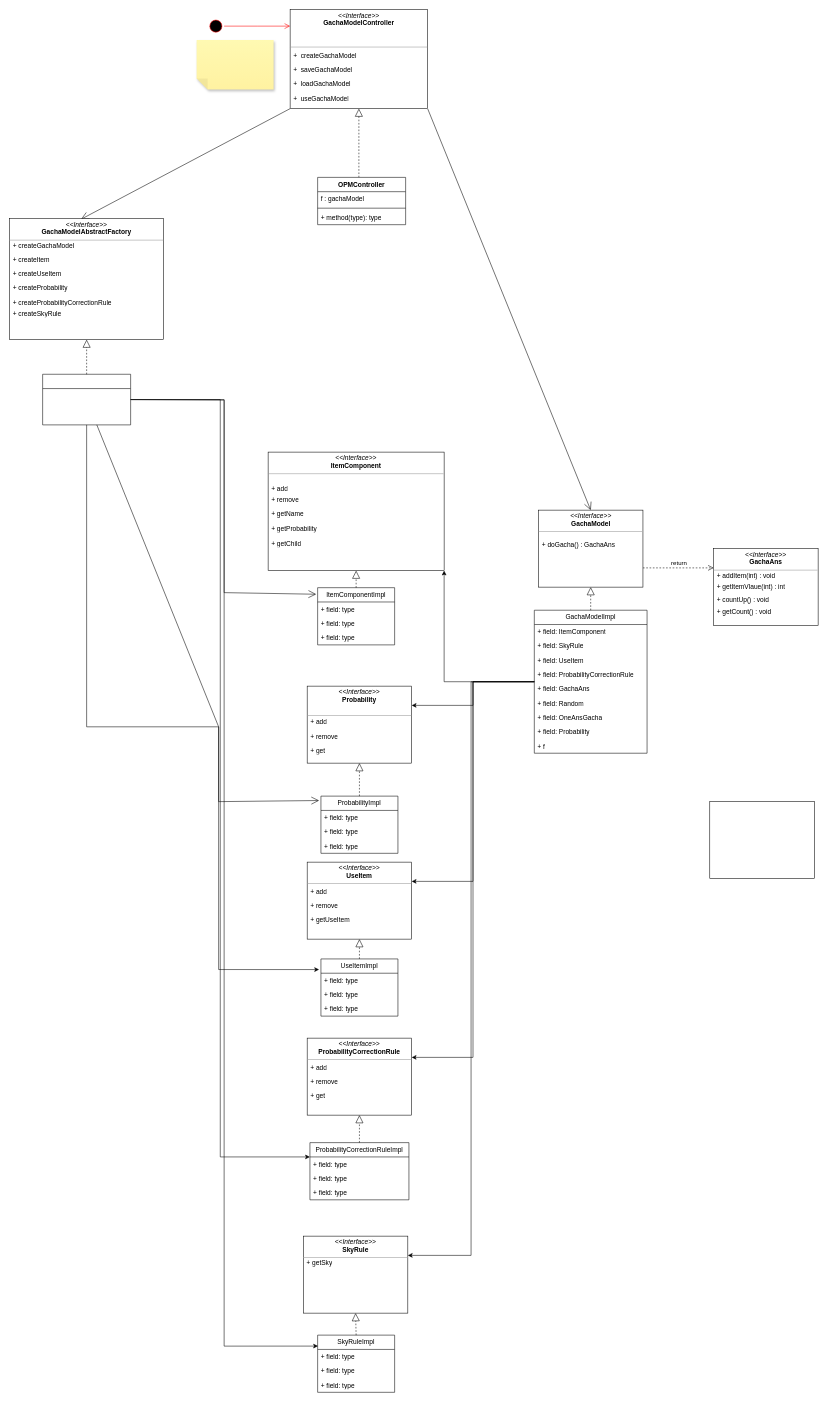
Some shapes in this 828 by 1404 pixel diagram are drawn without their labels. The centre of each missing label's shape, as x and y in pixels:
"<<Interface>> GachaModelDecorator //abstract" belongs at (761,840).
"OPMFactory" belongs at (86,399).
"View에서 event발생 시" belongs at (235,65).
